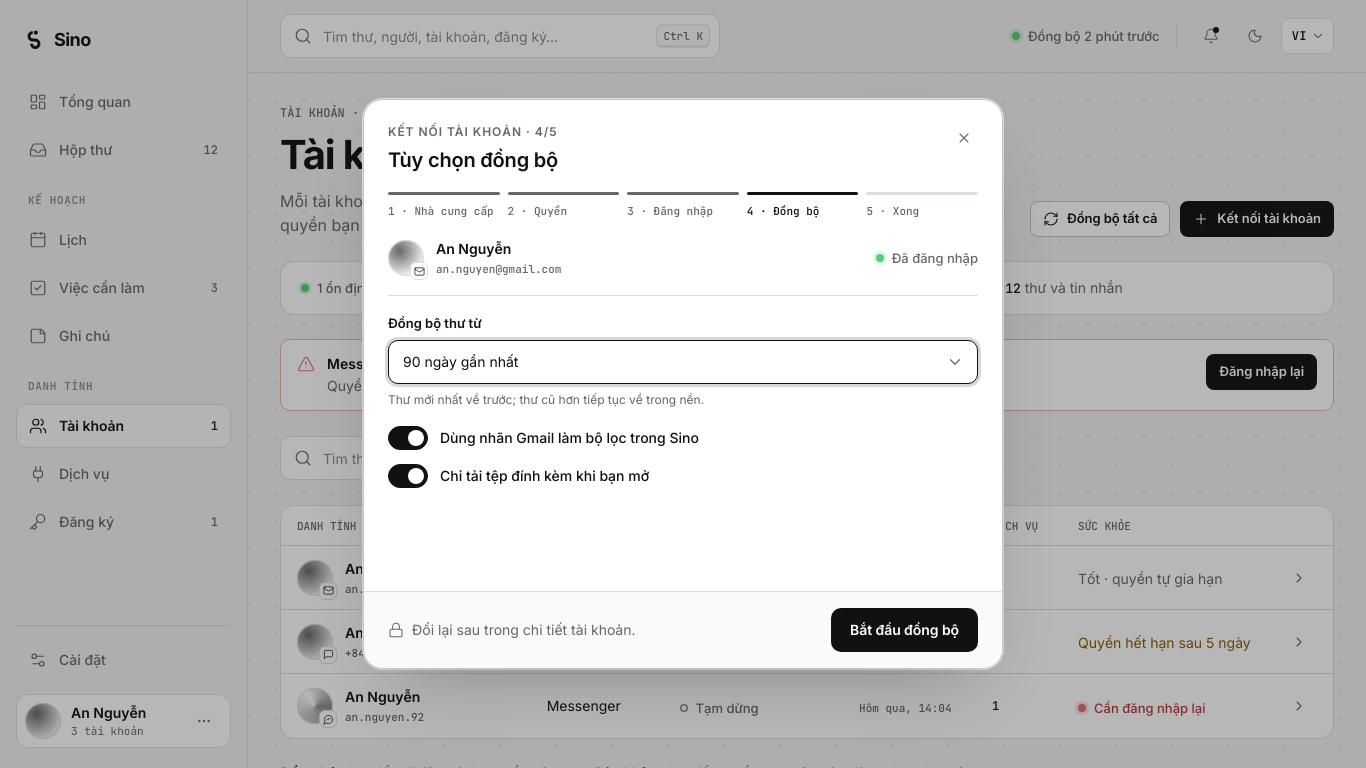
Scenario: coming back from the provider › shows the switches of the canvas and, once started, the account in step 5
Expected: the dialog "Tùy chọn đồng bộ" is shown, left=363, top=99, right=1003, bottom=669
Expected: the switch named "Chỉ tải tệp đính kèm khi bạn mở" next to "Chỉ tải tệp đính kèm khi bạn mở" is checked, left=388, top=464, right=428, bottom=488
Click the button "Bắt đầu đồng bộ" at coordinates (905, 630), box left=831, top=608, right=978, bottom=652
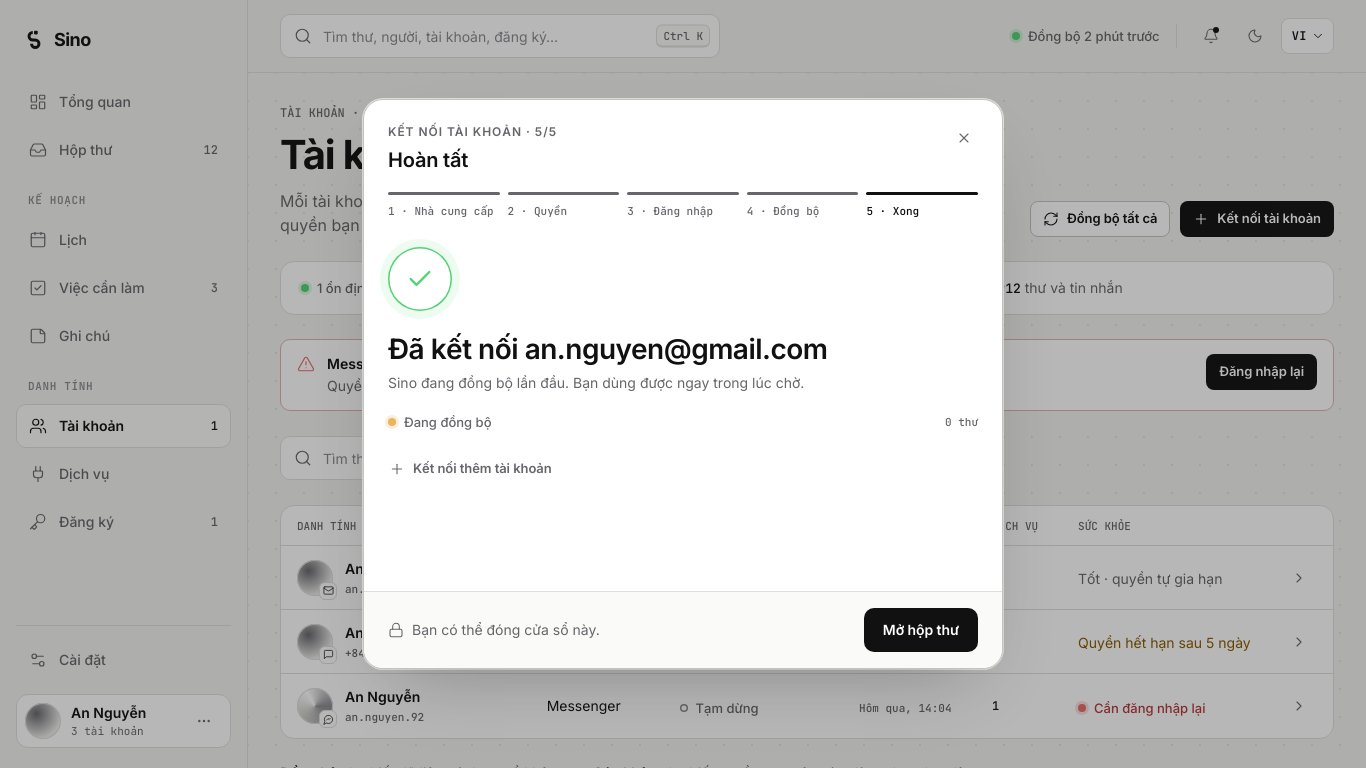
Expected: the dialog "Hoàn tất" is shown, left=363, top=99, right=1003, bottom=669
Expected: the text "Kết nối tài khoản · 5/5" is shown, left=388, top=124, right=557, bottom=139
Expected: the heading "Đã kết nối an.nguyen@gmail.com" is shown, left=388, top=331, right=828, bottom=367
